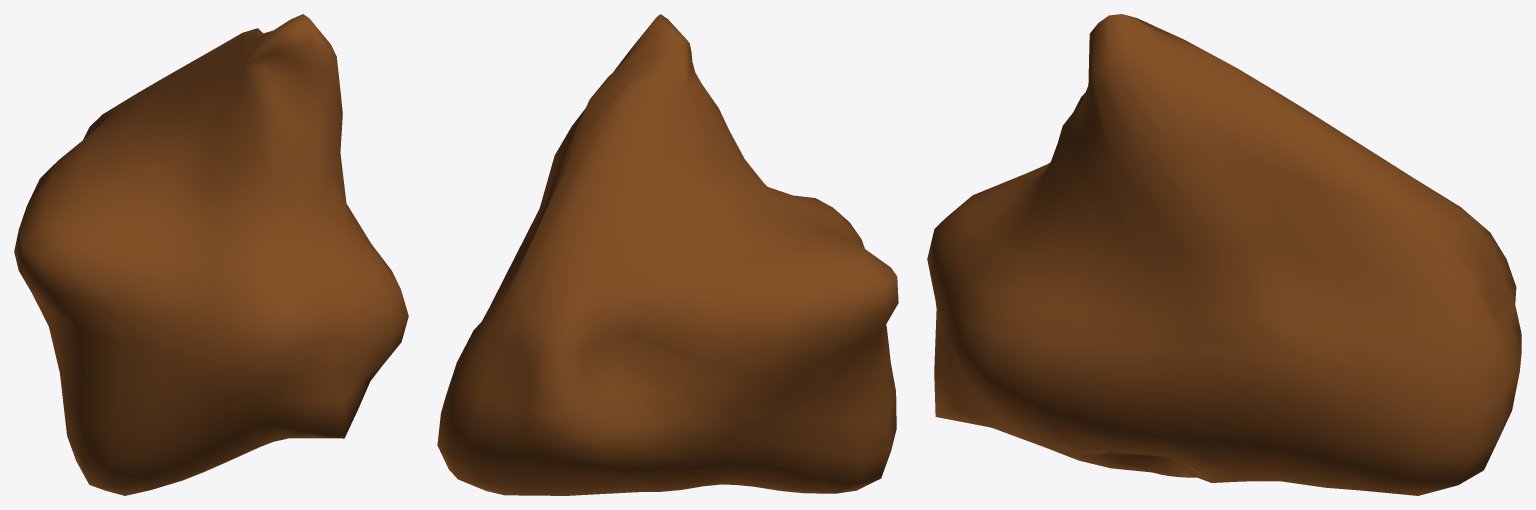
Rendered from Asteroid2.fbx.
3 views of the same model, side by side, from view 1: azimuth 30°, elevation 25°; view 2: azimuth 150°, elevation 25°; view 3: azimuth 270°, elevation 25° (orthographic). The views are drawn at different scales.
Parts seen in each view (by area): view 1: Sphere; view 2: Sphere; view 3: Sphere.
Part boxes in pixels (x1=…): Sphere: x1=14, y1=14, x2=408, y2=495; Sphere: x1=437, y1=14, x2=898, y2=495; Sphere: x1=927, y1=14, x2=1521, y2=495.
Bounding box in the file's own units: 2.59 × 3.15 × 3.33.
